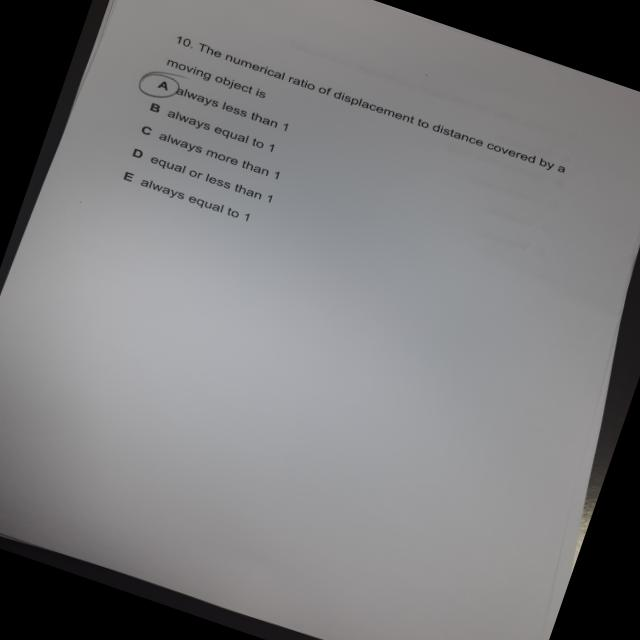A: (132, 65, 186, 108)
